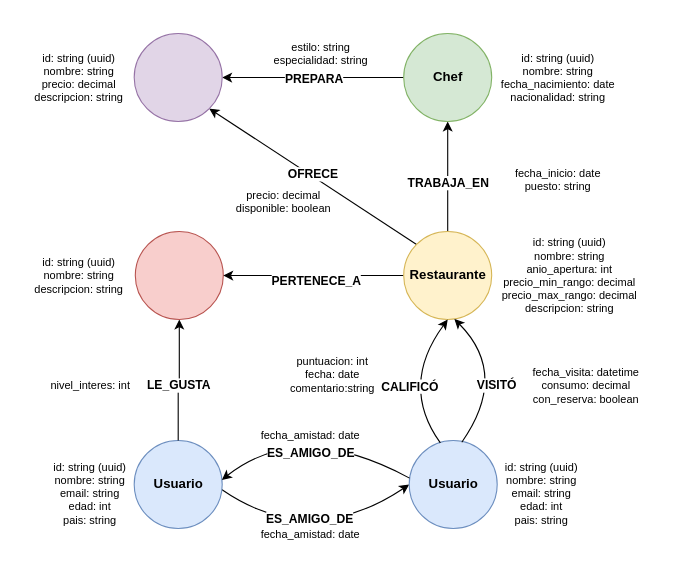
This 677x581 diagram has some shape labels left out. Each missing label, with the centre of its shape:
Platillo: (x=177, y=77)
TipoCocina: (x=178, y=275)
